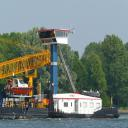tugboat: (25, 27, 122, 122)
